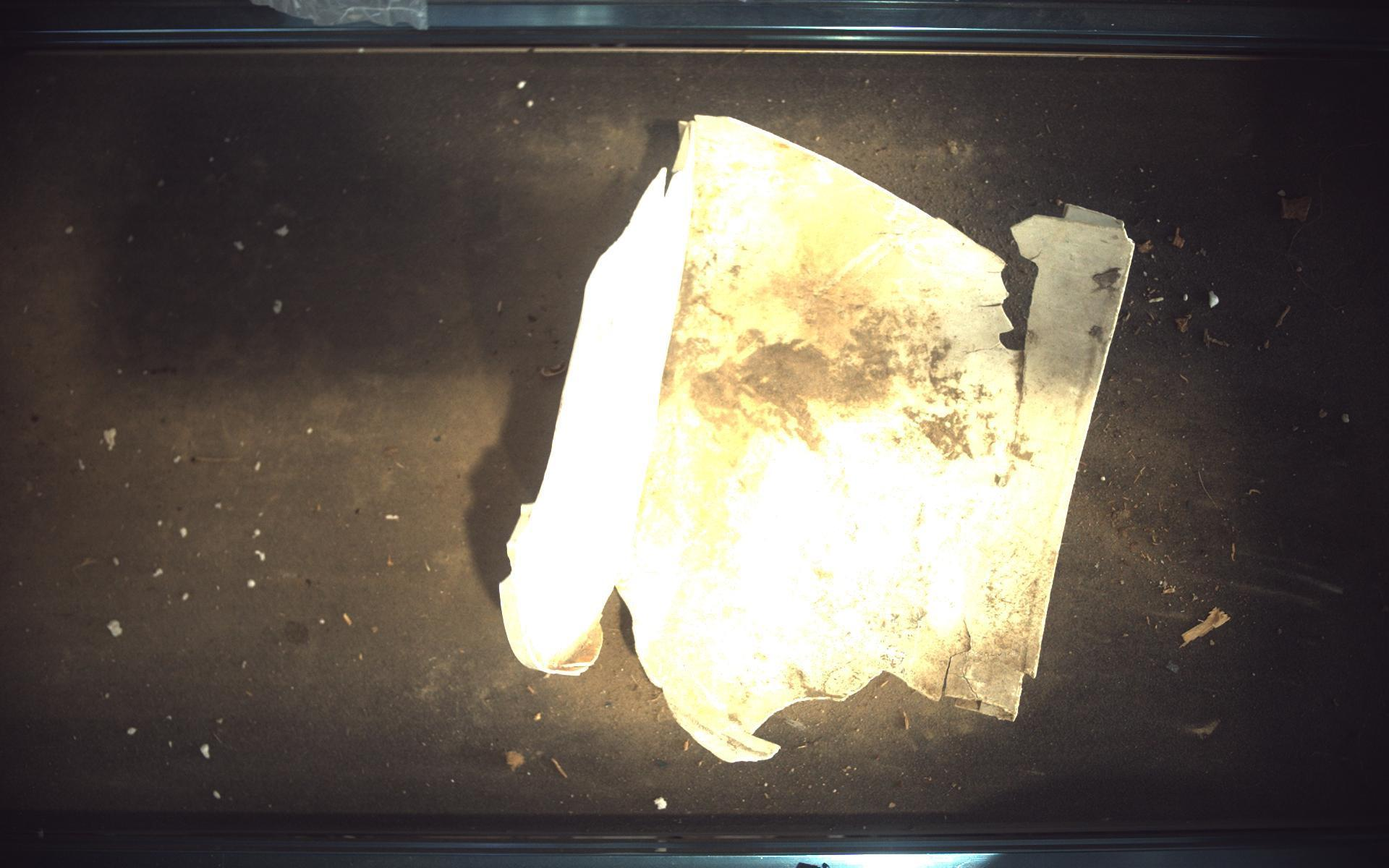plastic: (501, 115, 1136, 763)
